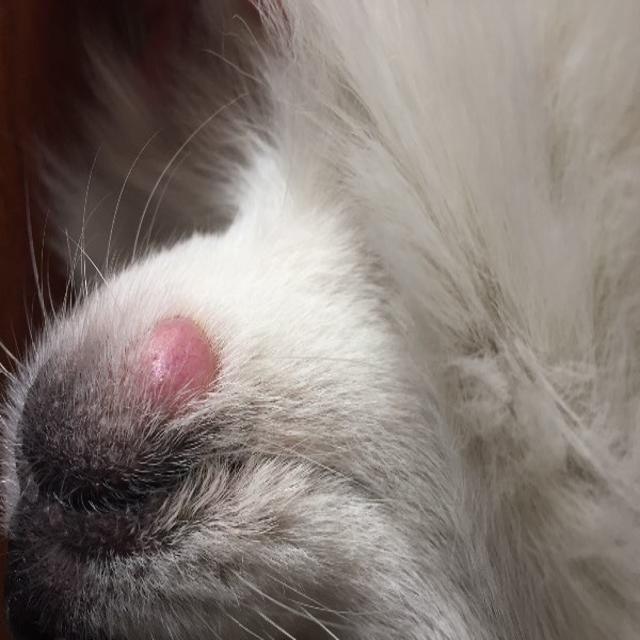lump_and_bump: (131, 315, 222, 422)
